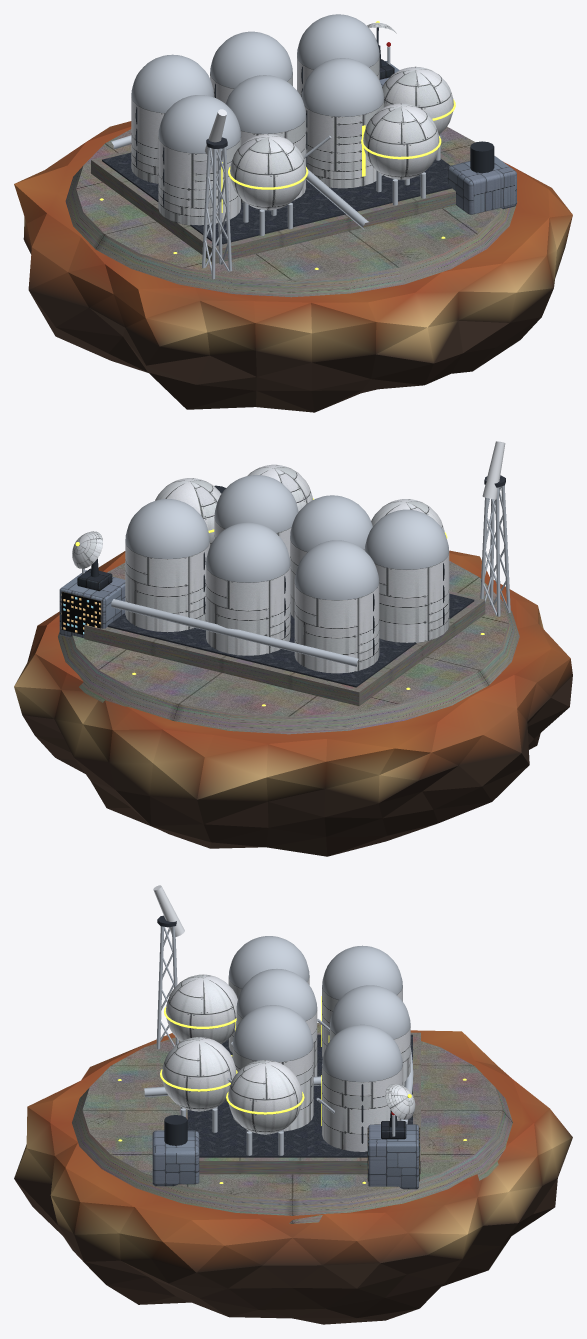
File: tankfarm.glb
The picture shows the model from 3 angles, top to bottom: view 1: azimuth 30°, elevation 25°; view 2: azimuth 150°, elevation 25°; view 3: azimuth 270°, elevation 25°; orthographic projection. The views are drawn at different scales.
Parts seen in each view (by area): view 1: object 1, object 2, object 13, object 14, object 36, object 69, object 63, object 50, object 51, object 44, object 23, object 16 (+8 smaller); view 2: object 1, object 2, object 13, object 15, object 22, object 29, object 36, object 14, object 16, object 23, object 30, object 37 (+12 smaller); view 3: object 1, object 2, object 14, object 57, object 29, object 69, object 13, object 63, object 30, object 51, object 23, object 16 (+9 smaller).
Boxes of the visible parts, box(x1,y1,x2,y2) form: object 1: box(14, 121, 572, 412); object 2: box(65, 126, 517, 297); object 13: box(91, 150, 455, 263); object 14: box(102, 152, 451, 245); object 36: box(158, 136, 241, 225); object 69: box(363, 103, 439, 179); object 63: box(230, 134, 306, 210); object 50: box(304, 99, 384, 188); object 51: box(301, 58, 383, 116); object 44: box(225, 75, 306, 133); object 23: box(210, 31, 292, 88); object 16: box(131, 54, 213, 113); object 1: box(14, 550, 572, 856); object 2: box(58, 561, 519, 734); object 13: box(84, 591, 485, 706); object 15: box(294, 583, 379, 673); object 22: box(206, 565, 290, 655); object 29: box(125, 542, 209, 632); object 36: box(374, 552, 449, 642); object 14: box(107, 593, 474, 687); object 16: box(294, 540, 379, 600); object 23: box(206, 522, 290, 582); object 30: box(125, 499, 209, 558); object 37: box(364, 509, 449, 569); object 1: box(14, 1030, 572, 1324); object 2: box(72, 1023, 512, 1223); object 14: box(187, 1034, 412, 1157); object 57: box(228, 1060, 302, 1134); object 29: box(322, 1065, 402, 1151); object 69: box(162, 1037, 236, 1111); object 13: box(179, 1032, 420, 1174); object 63: box(166, 974, 237, 1043); object 30: box(322, 1024, 402, 1082); object 51: box(232, 1005, 313, 1062); object 23: box(330, 985, 410, 1039); object 16: box(322, 945, 402, 999).
Size of the model in its own units: 6.89 by 4.25 by 7.19.
14 materials, 7 textured.
